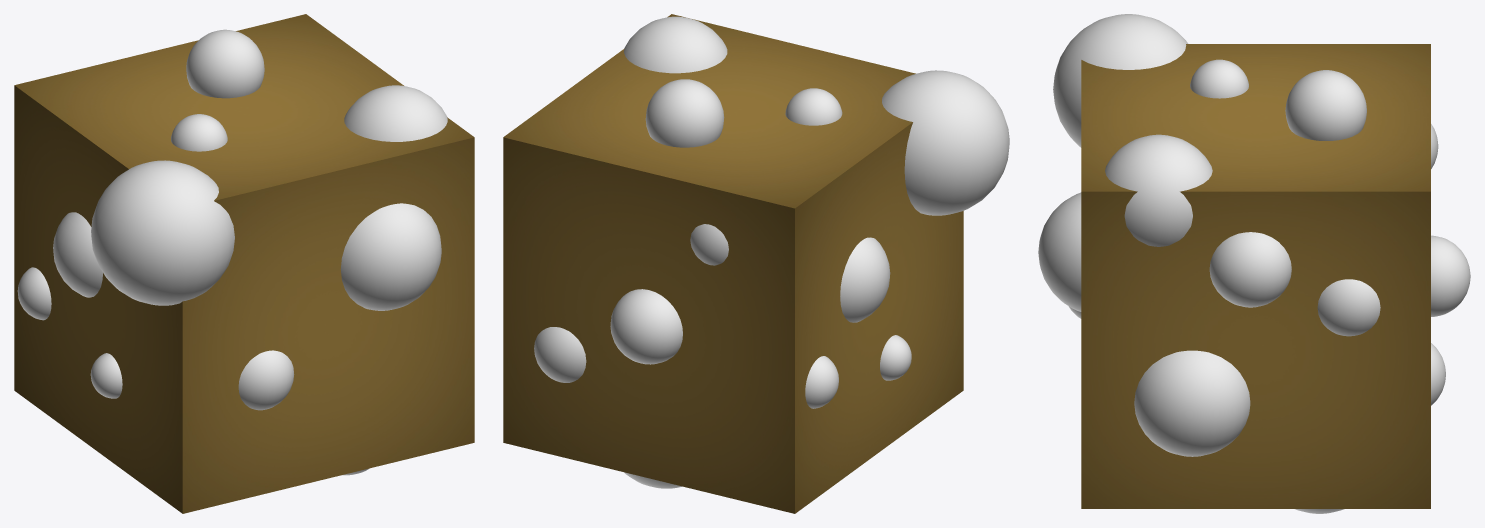
Rendered from cheese.gltf.
The picture shows the model from 3 angles, left to right: view 1: azimuth 30°, elevation 25°; view 2: azimuth 150°, elevation 25°; view 3: azimuth 270°, elevation 25°; orthographic projection. The views are drawn at different scales.
Parts seen in each view (by area): view 1: Cube, Sphere.012, Sphere.014, Sphere.007, Sphere.003, Sphere.010, Sphere.013, Sphere.008, Sphere.009, Sphere.011; view 2: Cube, Sphere.012, Sphere.007, Sphere.003, Sphere, Sphere.010, Sphere.004, Sphere.008, Sphere.009, Sphere.001, Sphere.011; view 3: Cube, Sphere.005, Sphere.007, Sphere.012, Sphere.006, Sphere.003, Sphere.014, Sphere.002, Sphere, Sphere.008, Sphere.004.
Part boxes in pixels (left/top/right/bottom): Cube: left=14, top=14, right=474, bottom=513; Sphere.012: left=91, top=160, right=234, bottom=305; Sphere.014: left=340, top=203, right=441, bottom=310; Sphere.007: left=344, top=85, right=447, bottom=141; Sphere.003: left=186, top=29, right=264, bottom=98; Sphere.010: left=53, top=212, right=102, bottom=297; Sphere.013: left=238, top=350, right=294, bottom=410; Sphere.008: left=171, top=114, right=227, bottom=151; Sphere.009: left=17, top=267, right=51, bottom=320; Sphere.011: left=90, top=353, right=122, bottom=398; Cube: left=503, top=14, right=963, bottom=513; Sphere.012: left=882, top=70, right=1009, bottom=215; Sphere.007: left=624, top=16, right=727, bottom=73; Sphere.003: left=645, top=79, right=724, bottom=147; Sphere: left=610, top=289, right=682, bottom=364; Sphere.010: left=840, top=237, right=890, bottom=322; Sphere.004: left=534, top=327, right=586, bottom=382; Sphere.008: left=785, top=88, right=842, bottom=125; Sphere.009: left=805, top=356, right=838, bottom=408; Sphere.001: left=690, top=224, right=728, bottom=265; Sphere.011: left=880, top=335, right=911, bottom=380; Cube: left=1081, top=44, right=1430, bottom=508; Sphere.005: left=1134, top=350, right=1250, bottom=456; Sphere.007: left=1105, top=134, right=1212, bottom=246; Sphere.012: left=1053, top=14, right=1188, bottom=147; Sphere.006: left=1209, top=232, right=1291, bottom=307; Sphere.003: left=1285, top=70, right=1366, bottom=140; Sphere.014: left=1038, top=192, right=1081, bottom=311; Sphere.002: left=1317, top=279, right=1380, bottom=336; Sphere: left=1431, top=235, right=1470, bottom=316; Sphere.008: left=1190, top=59, right=1248, bottom=98; Sphere.004: left=1431, top=343, right=1445, bottom=405.
Bounding box in the file's own units: 2.66 × 2.67 × 2.47.
Materials: 2 (1 with a texture image).
